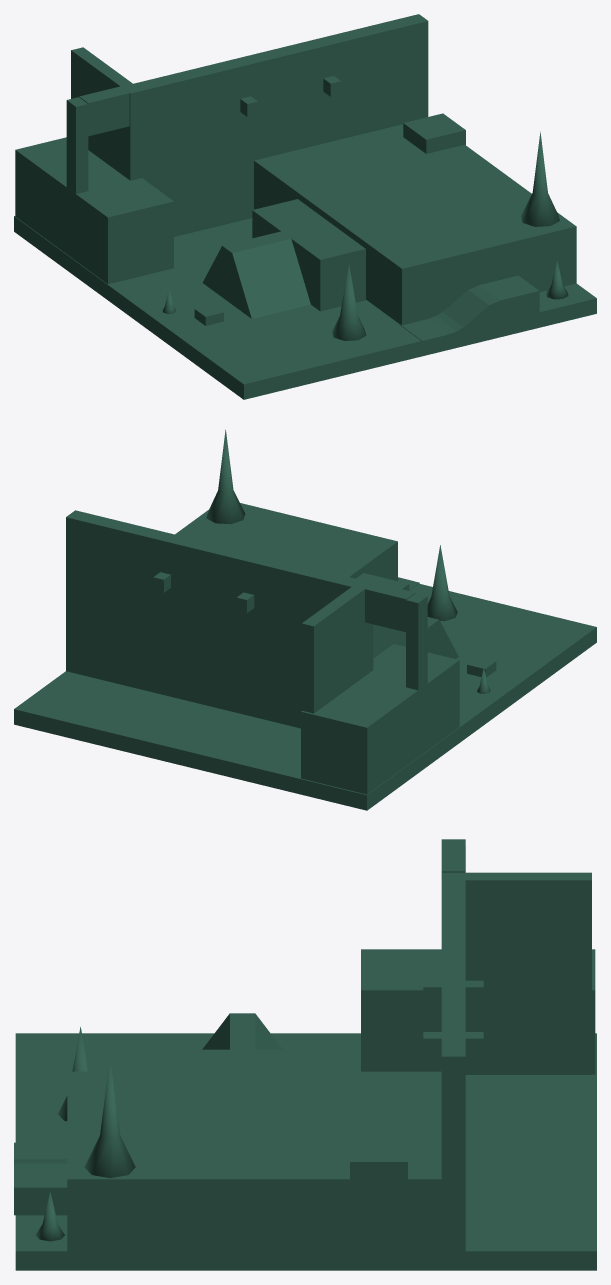
File: Level.glb
The picture shows the model from 3 angles, top to bottom: view 1: azimuth 30°, elevation 25°; view 2: azimuth 150°, elevation 25°; view 3: azimuth 270°, elevation 25°; orthographic projection. The views are drawn at different scales.
Visible parts, largest first — view 1: Cube.002, Cube.007, Cube.001, Cube.003, Cube, Cube.004, Cube.009, Cube.011, Cube.008, Cube.006, Cube.010, Cone.001 (+1 smaller); view 2: Cube.007, Cube.001, Cube.003, Cube.002, Cube.009, Cube.008, Cube.010, Cube.004, Cone.001, Cone; view 3: Cube.002, Cube.001, Cube.009, Cube.003, Cube.007, Cube.006, Cube, Cube.011, Cone.001, Cube.004, Cube.012, Cube.013 (+3 smaller).
Boxes of the visible parts, x1=… form: Cube.002: x1=254, y1=124, x2=576, y2=325; Cube.007: x1=133, y1=14, x2=428, y2=236; Cube.001: x1=14, y1=216, x2=596, y2=399; Cube.003: x1=15, y1=137, x2=173, y2=284; Cube: x1=252, y1=199, x2=365, y2=311; Cube.004: x1=202, y1=231, x2=310, y2=318; Cube.009: x1=71, y1=47, x2=142, y2=180; Cube.011: x1=399, y1=275, x2=539, y2=341; Cube.008: x1=66, y1=97, x2=88, y2=193; Cube.006: x1=403, y1=113, x2=465, y2=153; Cube.010: x1=79, y1=86, x2=129, y2=136; Cone.001: x1=521, y1=131, x2=559, y2=226; Cube.007: x1=66, y1=510, x2=360, y2=728; Cube.001: x1=14, y1=583, x2=596, y2=810; Cube.003: x1=301, y1=644, x2=459, y2=794; Cube.002: x1=175, y1=503, x2=397, y2=581; Cube.009: x1=301, y1=580, x2=373, y2=713; Cube.008: x1=406, y1=593, x2=427, y2=690; Cube.010: x1=365, y1=582, x2=415, y2=632; Cube.004: x1=373, y1=617, x2=458, y2=658; Cone.001: x1=206, y1=429, x2=245, y2=524; Cone: x1=427, y1=545, x2=457, y2=621; Cube.002: x1=67, y1=1071, x2=441, y2=1251; Cube.001: x1=15, y1=1033, x2=596, y2=1270; Cube.009: x1=442, y1=872, x2=591, y2=1074; Cube.003: x1=361, y1=949, x2=595, y2=1074; Cube.007: x1=441, y1=880, x2=465, y2=1251; Cube.006: x1=350, y1=1137, x2=407, y2=1227; Cube: x1=156, y1=1049, x2=328, y2=1071; Cube.011: x1=14, y1=1142, x2=67, y2=1215; Cone.001: x1=84, y1=1056, x2=135, y2=1178; Cube.004: x1=202, y1=1013, x2=282, y2=1050; Cube.012: x1=423, y1=980, x2=483, y2=1003; Cube.013: x1=423, y1=1032, x2=483, y2=1055.
Bounding box in the file's own units: 31.66 × 14.53 × 35.69.
